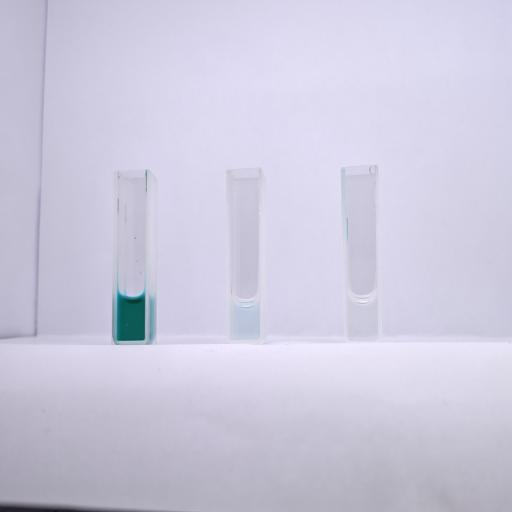cuvette: (340, 164, 382, 344), (111, 166, 151, 346), (225, 166, 265, 346)
liquid: (346, 293, 378, 340), (230, 298, 262, 342), (116, 294, 145, 340)
